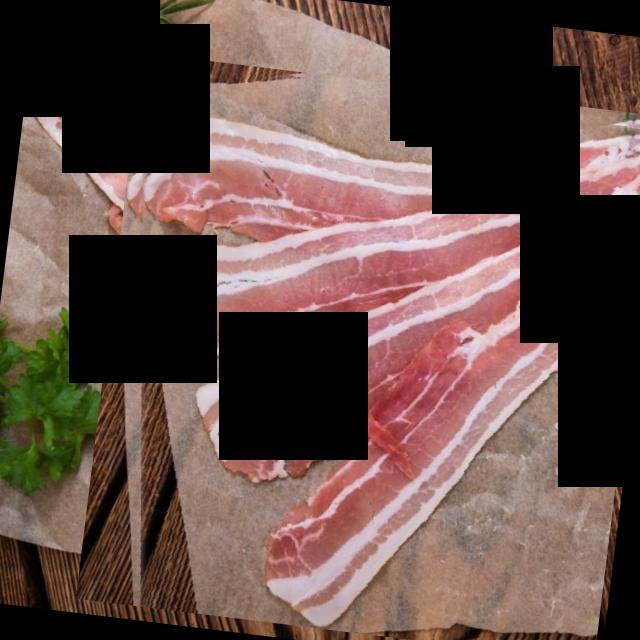bacon: (75, 52, 640, 640)
